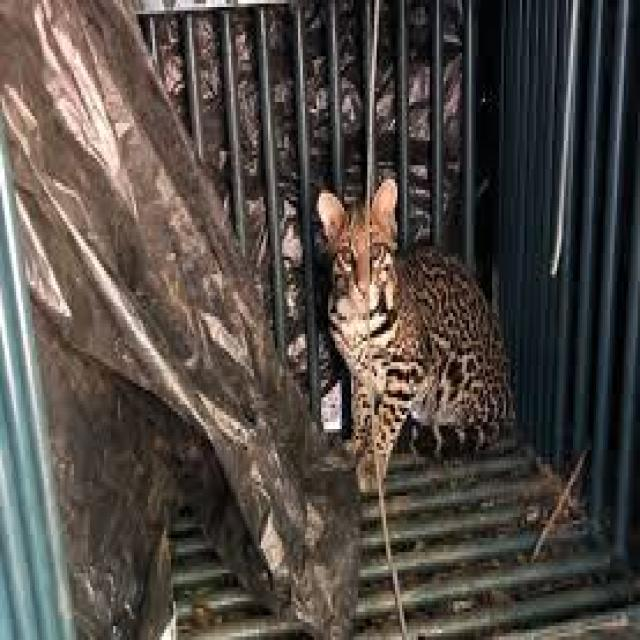Jaguar: (300, 169, 522, 478)
